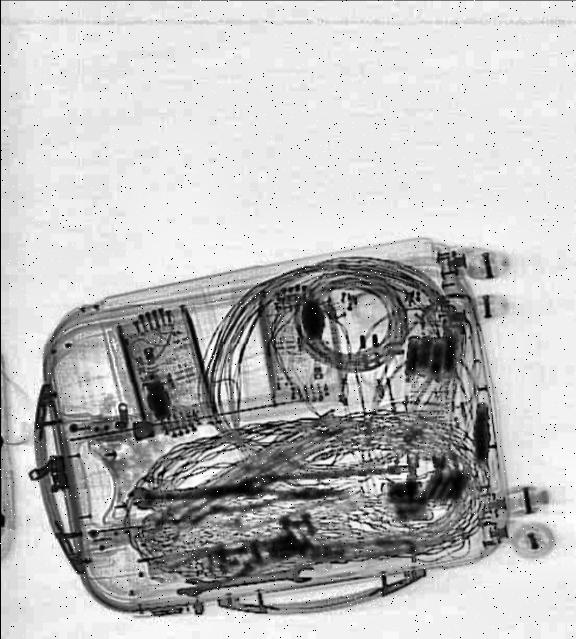Wrench: (174, 560, 314, 600), (126, 474, 264, 508)
